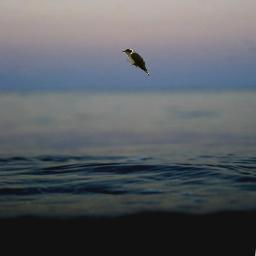Cuckoo: (121, 49, 149, 77)
